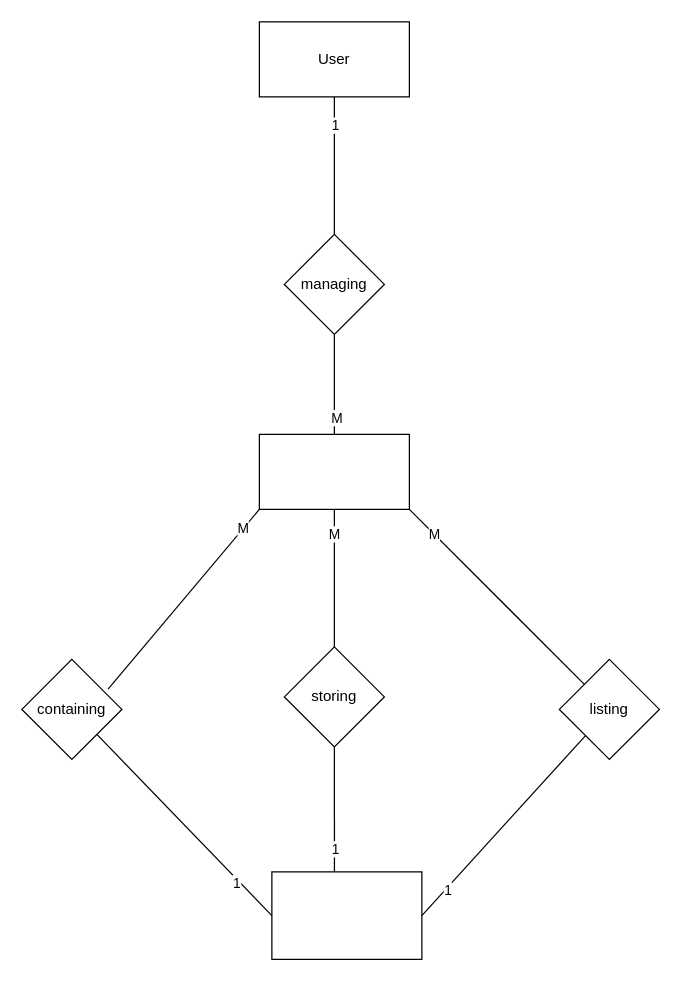
Image size: 681x981. Some labels were removed from this diagram. Each missing label, with the centre of its shape:
Device: the point at 333,471
Warehouse: the point at 346,915
